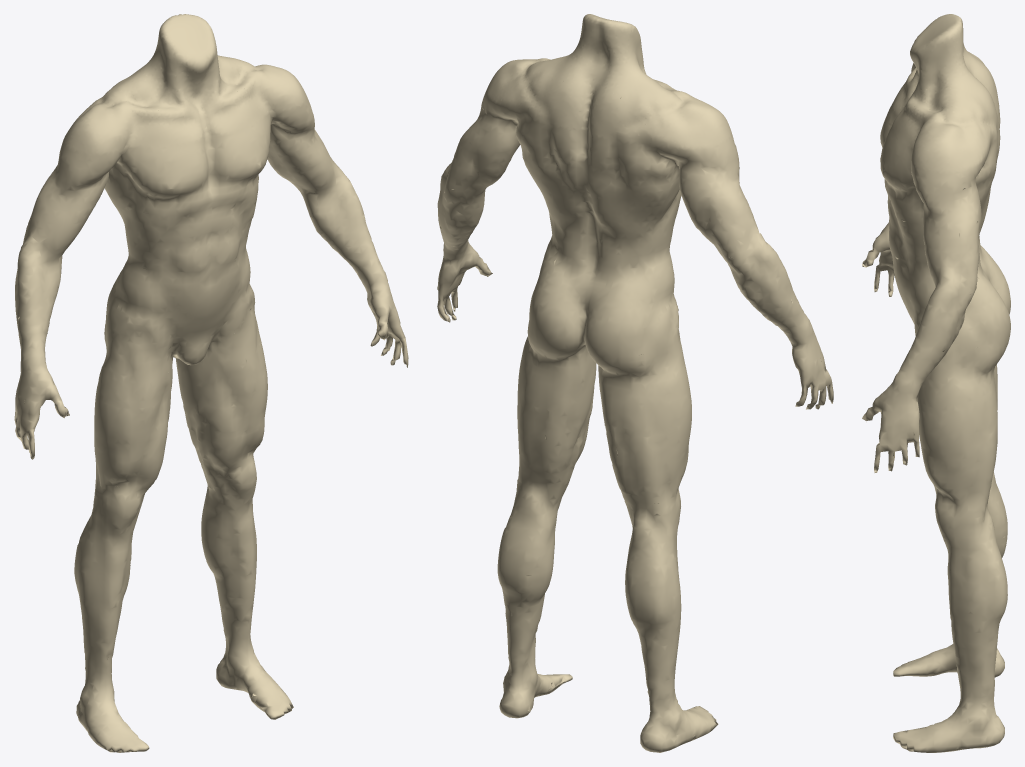
Rendered from body-base.glb.
3 views of the same model, side by side, from view 1: azimuth 30°, elevation 25°; view 2: azimuth 150°, elevation 25°; view 3: azimuth 270°, elevation 25° (orthographic).
Size of the model in its own units: 101 by 178 by 34.72.
